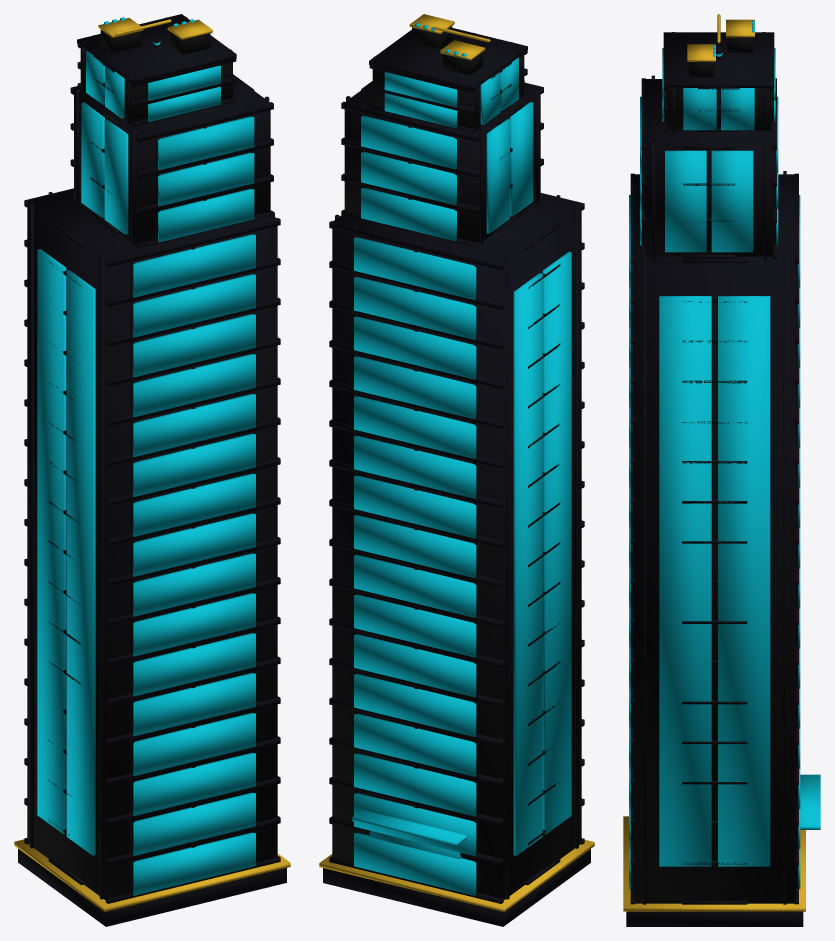
File: skyscraper.glb
3 views of the same model, side by side, from view 1: azimuth 30°, elevation 25°; view 2: azimuth 150°, elevation 25°; view 3: azimuth 270°, elevation 25° (orthographic).
Parts seen in each view (by area): view 1: skyscraper; view 2: skyscraper; view 3: skyscraper.
Part boxes in pixels (box(x1,y1,x2,y2)): skyscraper: box(14, 14, 290, 926); skyscraper: box(319, 14, 594, 926); skyscraper: box(623, 14, 820, 926).
Size of the model in its own units: 7.8 by 33.97 by 7.12.
